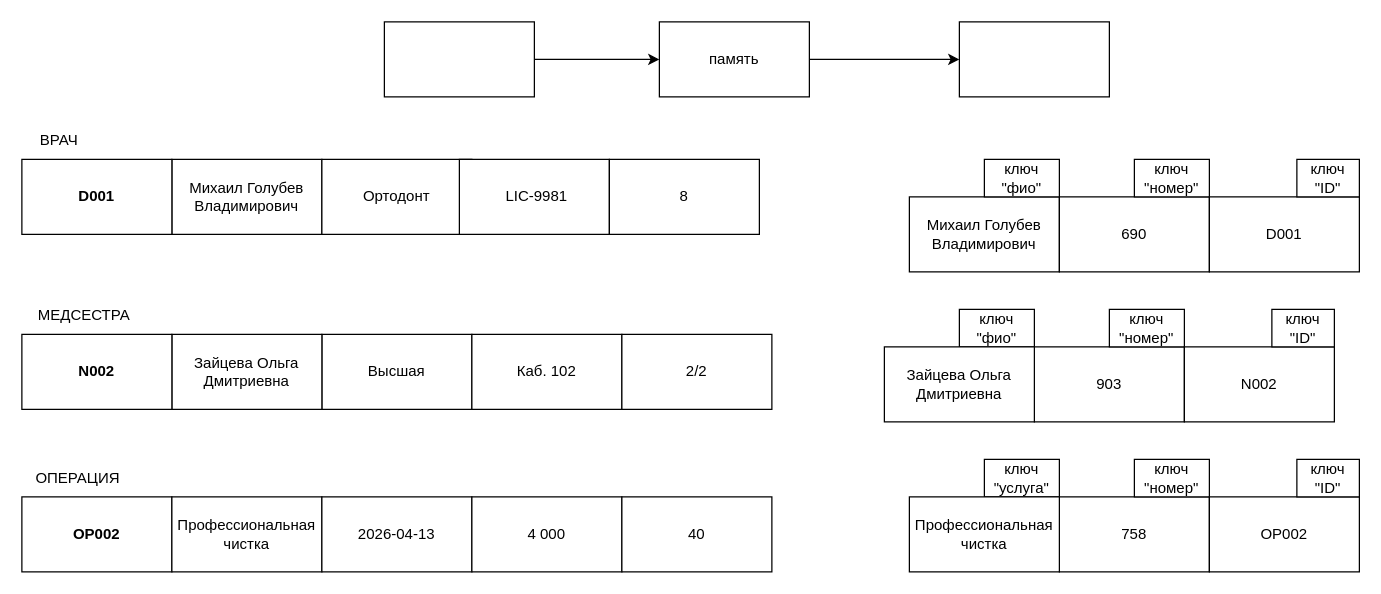
This 1381x594 diagram has some shape labels left out. The shapes that lost their labels are listed below. From the top down, each one's centre as x and y in pixels, then its label:
At (458,59): "данные".
At (1033,59): "индекс".
